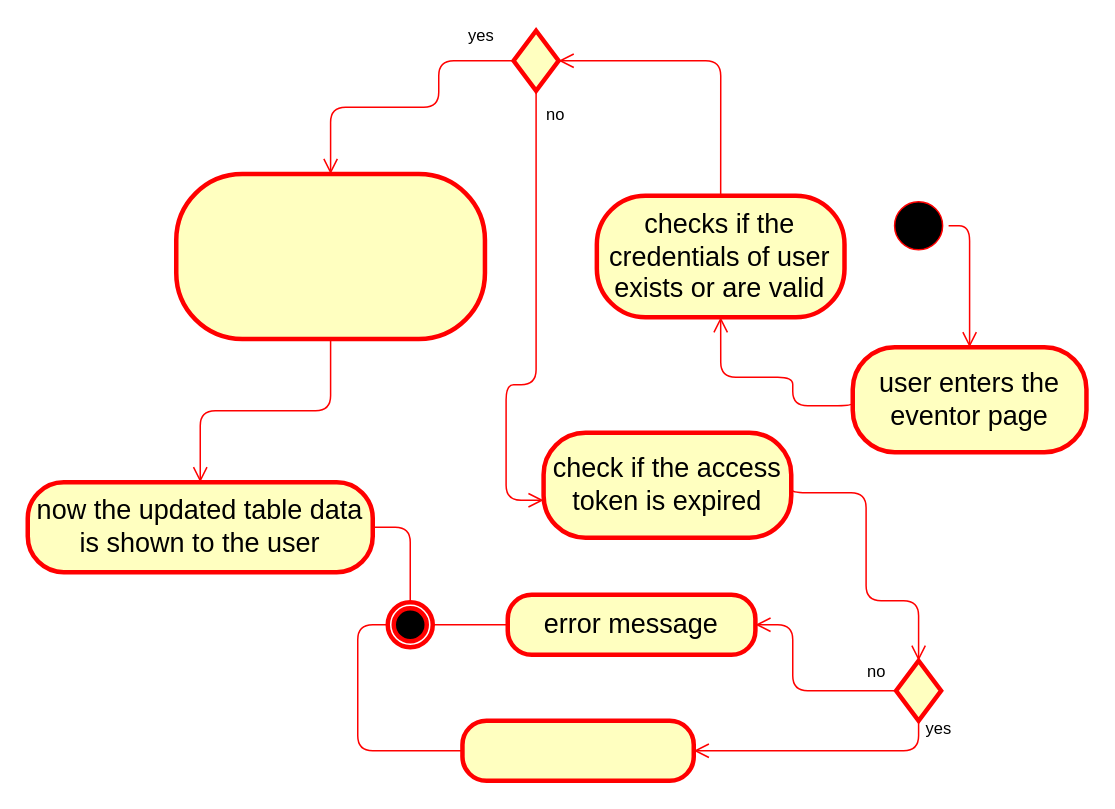
This 1115x809 diagram has some shape labels left out. Here are the shapes that lost their labels. From the top down, the centre of each, then its label:
(x=329, y=255): the system sees the table config of the user and periodically update the table
(x=577, y=750): need refresh
